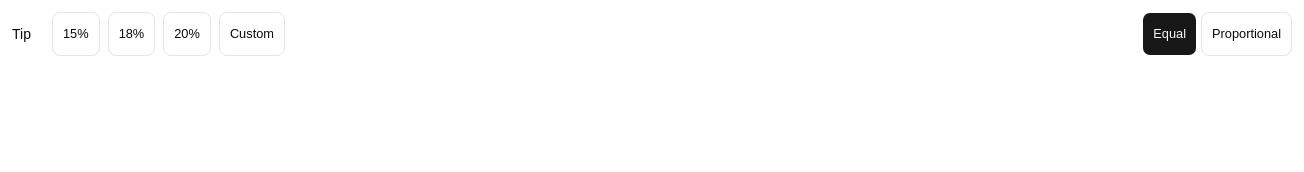
TipControl › TIP-01 custom input shows error for non-numeric value
The width and height of the screenshot is (1304, 172).
Click the button "Custom" at (252, 34), box left=219, top=12, right=285, bottom=56
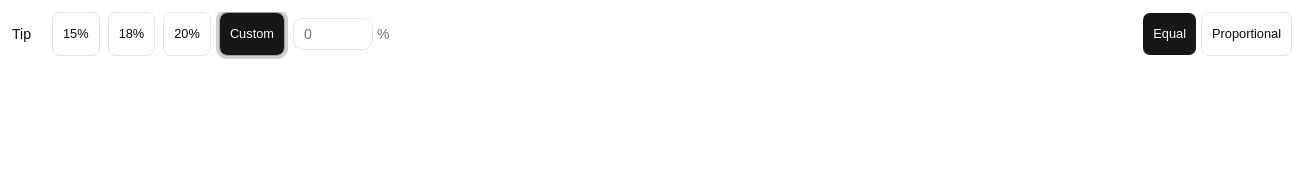
Type "abc" into the field named "Custom tip percentage" at (333, 34), box left=293, top=18, right=373, bottom=50
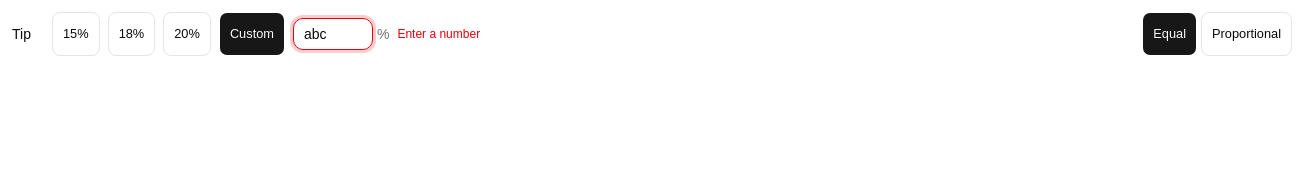
Now the message reads "Enter a number", box left=397, top=27, right=480, bottom=41
